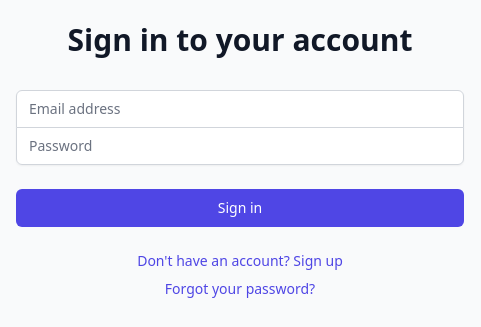
Test: Login Component › shows validation error for short password
Type "short" into the password field with placeholder "Password" at coordinates (240, 146), box [16,126,464,164]
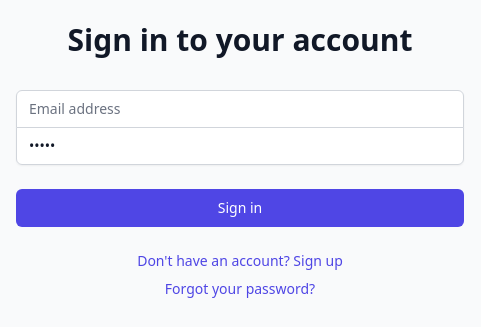
Leave the password field with placeholder "Password", box [16,126,464,164]
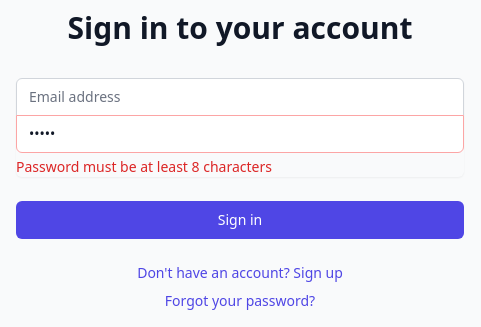
Expected: the text "Password must be at least 8 characters" is shown, [16,156,272,176]
